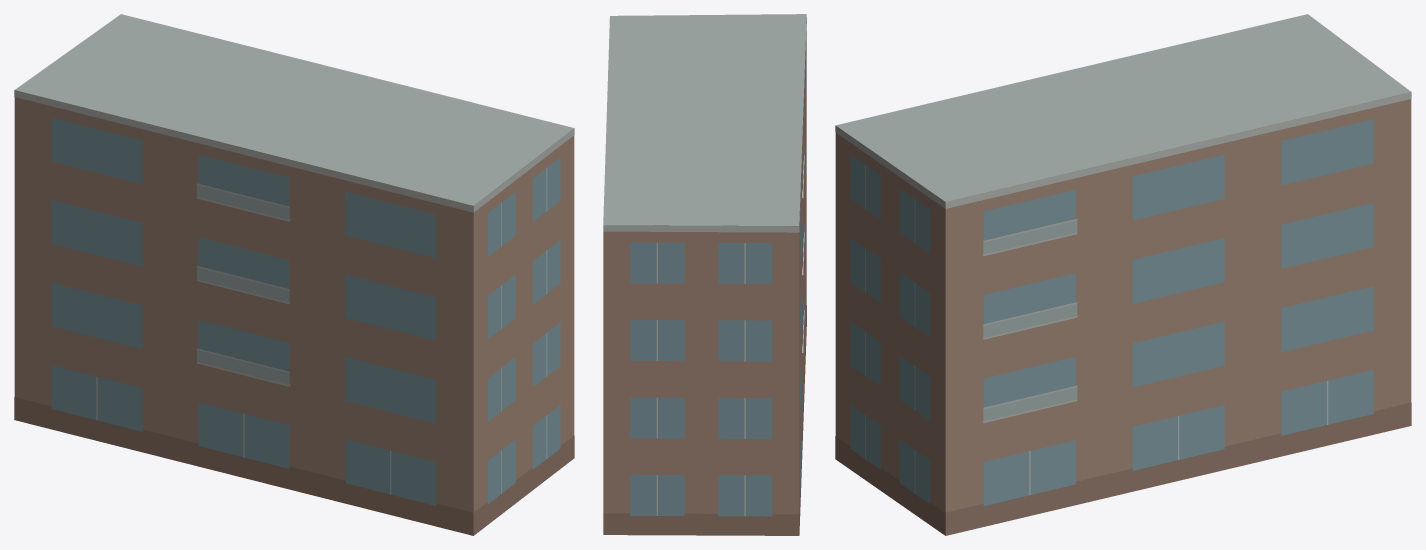
File: survey-upis-32695340.glb
3 views of the same model, side by side, from view 1: azimuth 30°, elevation 25°; view 2: azimuth 150°, elevation 25°; view 3: azimuth 270°, elevation 25° (orthographic). The views are drawn at different scales.
Visible parts, largest first — view 1: survey-upis-32695340.tmp; view 2: survey-upis-32695340.tmp; view 3: survey-upis-32695340.tmp.
Boxes of the visible parts, bbox=[...] form: survey-upis-32695340.tmp: bbox=[14, 14, 574, 535]; survey-upis-32695340.tmp: bbox=[603, 14, 806, 535]; survey-upis-32695340.tmp: bbox=[835, 14, 1411, 535].
Bounding box in the file's own units: 14.14 × 11.7 × 18.3.
